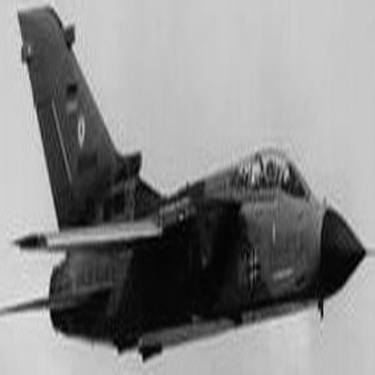airplane: (1, 23, 368, 373)
